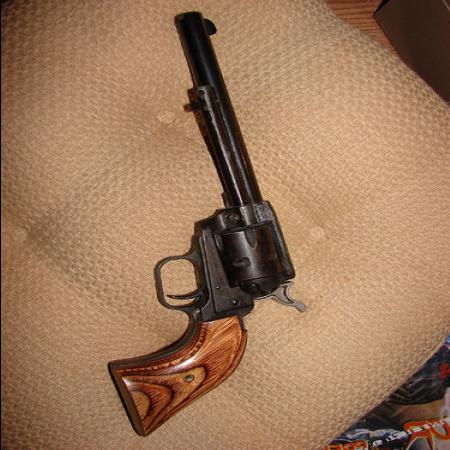Pistol: (107, 12, 308, 444)
